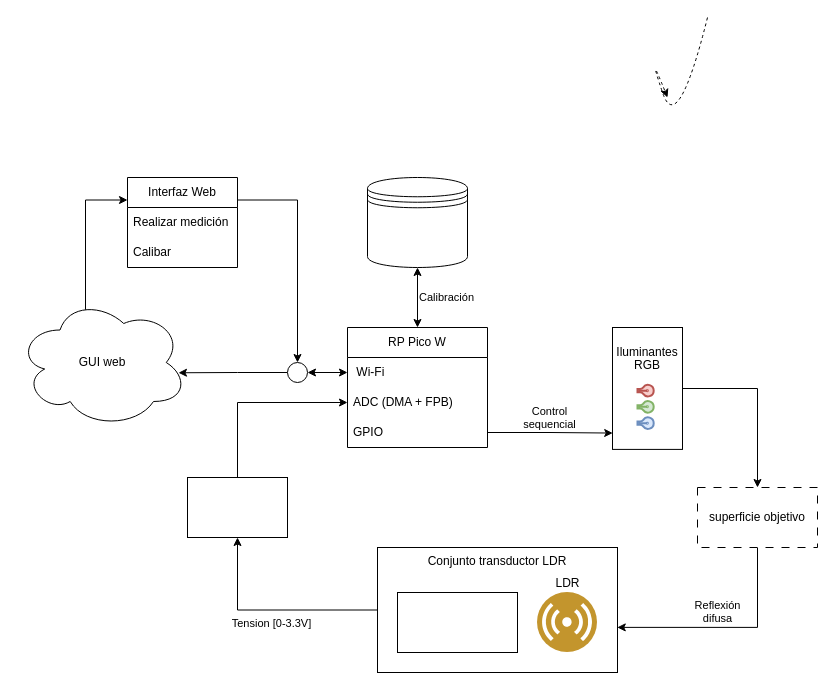
Image size: 835x690. Some labels were removed from this diagram. Each missing label, with the centre of its shape:
Filtro pasa-bajos: point (237, 507)
Fuente de corriente ajustable: point (457, 622)
Paramétros calibración: point (417, 222)
